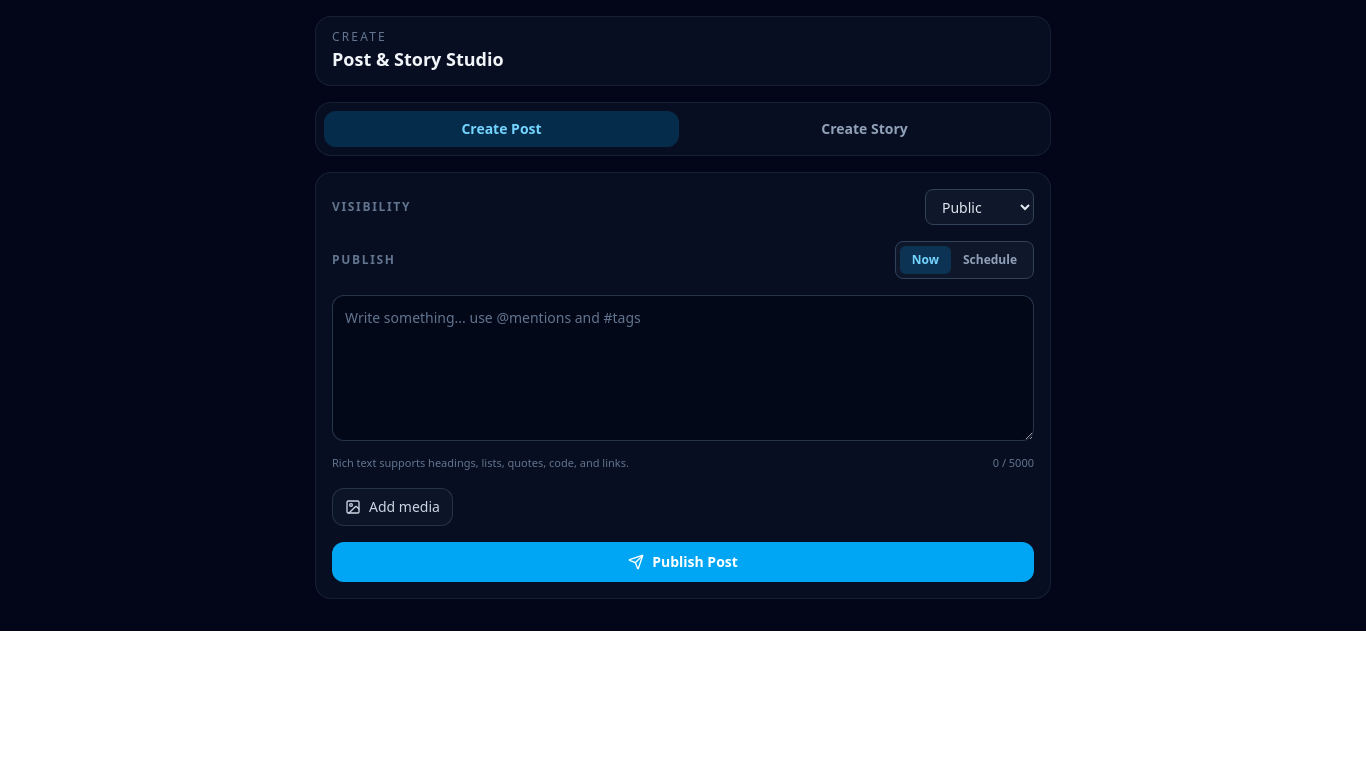
Test: CreatePostPage › switches to story mode
Click the button "Create Story" at (864, 129), box [687, 111, 1042, 147]
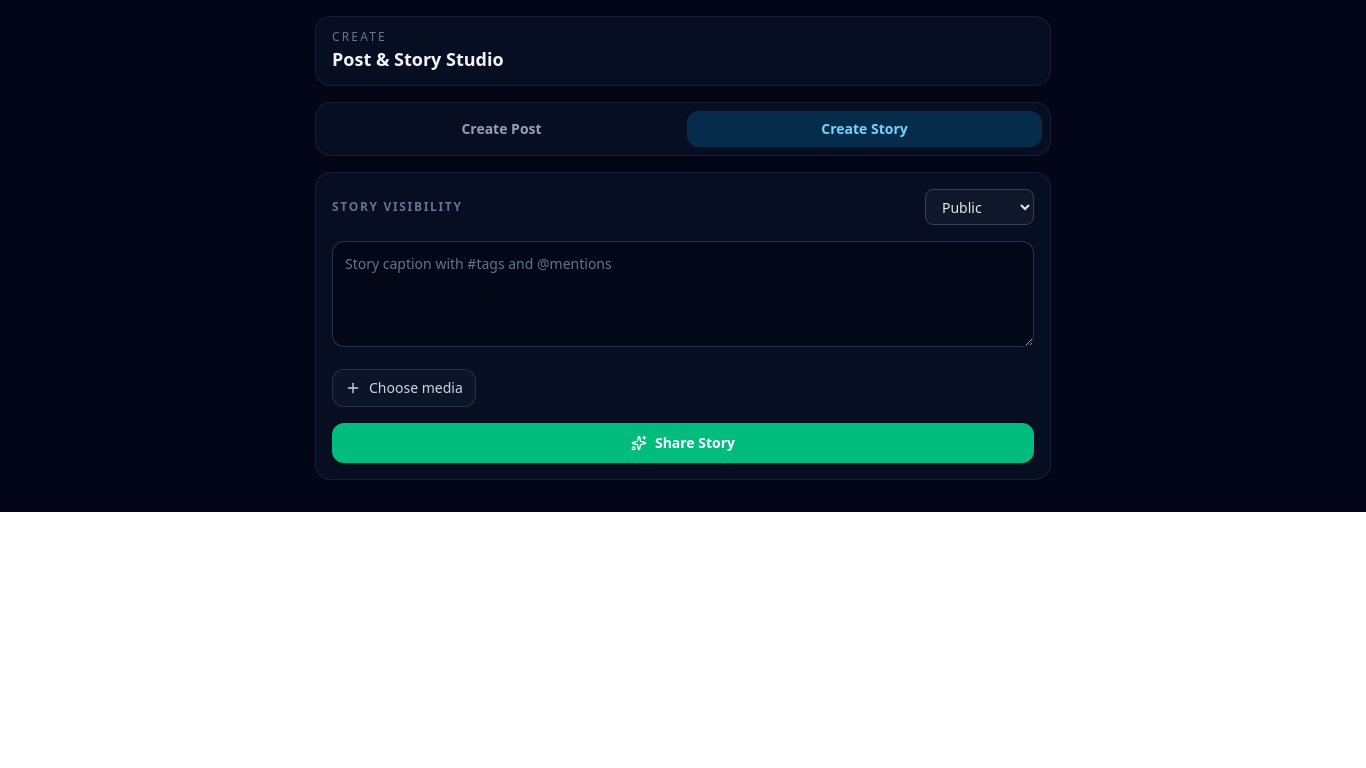
Result: the text box with placeholder "Story caption with #tags and @mentions" is shown at [332, 241, 1034, 347]
Result: the button "Share Story" is shown at [332, 423, 1034, 463]
